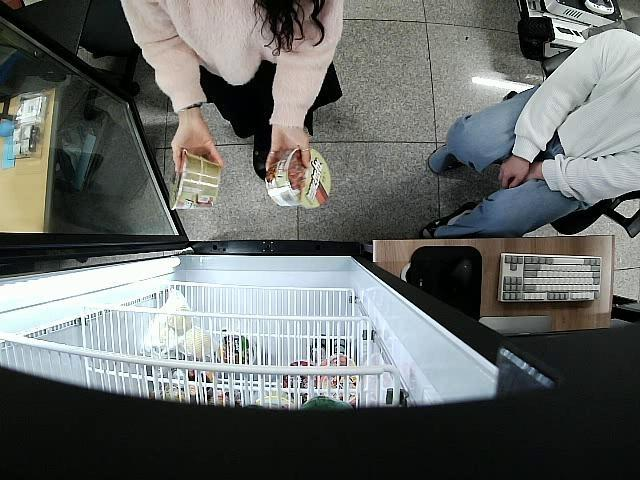03_chapagetti_L: (264, 144, 330, 211), (170, 146, 222, 213)
